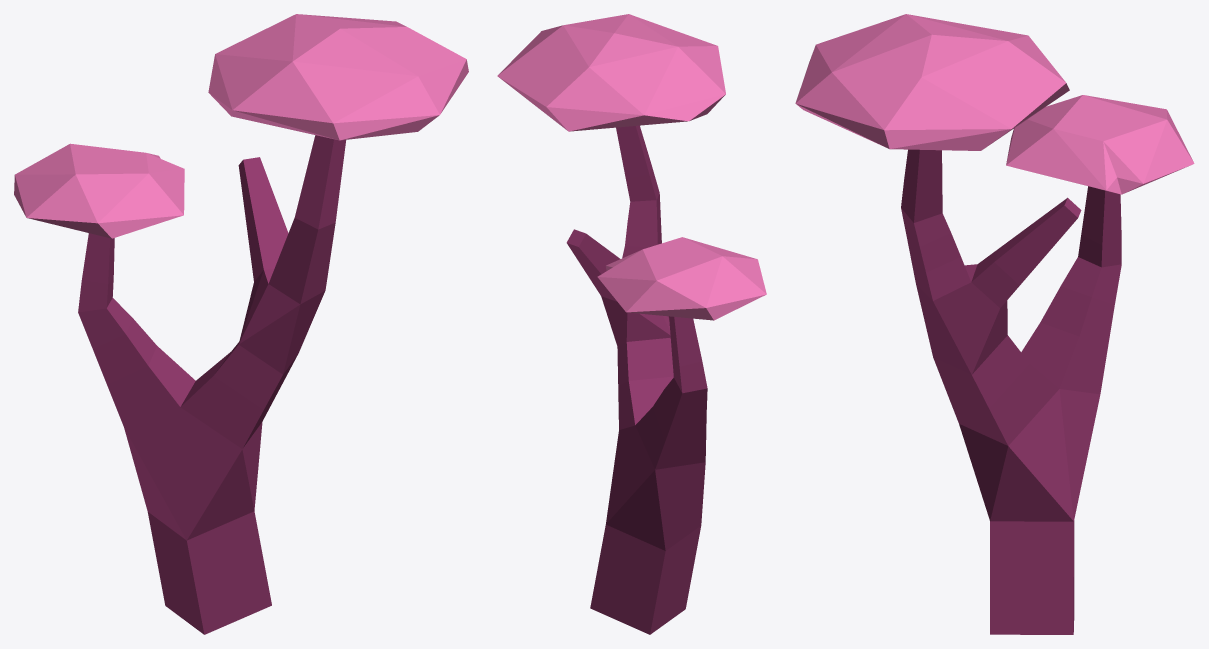
Rendered from plantdechampi.fbx.
3 views of the same model, side by side, from view 1: azimuth 30°, elevation 25°; view 2: azimuth 150°, elevation 25°; view 3: azimuth 270°, elevation 25° (orthographic). The views are drawn at different scales.
Parts seen in each view (by area): view 1: AlienPlantM2; view 2: AlienPlantM2; view 3: AlienPlantM2.
Boxes of the visible parts, x1,y1,x2,y2 form: AlienPlantM2: (14, 14, 468, 634); AlienPlantM2: (497, 14, 766, 634); AlienPlantM2: (795, 14, 1194, 634).
Size of the model in its own units: 240 by 391 by 223.
